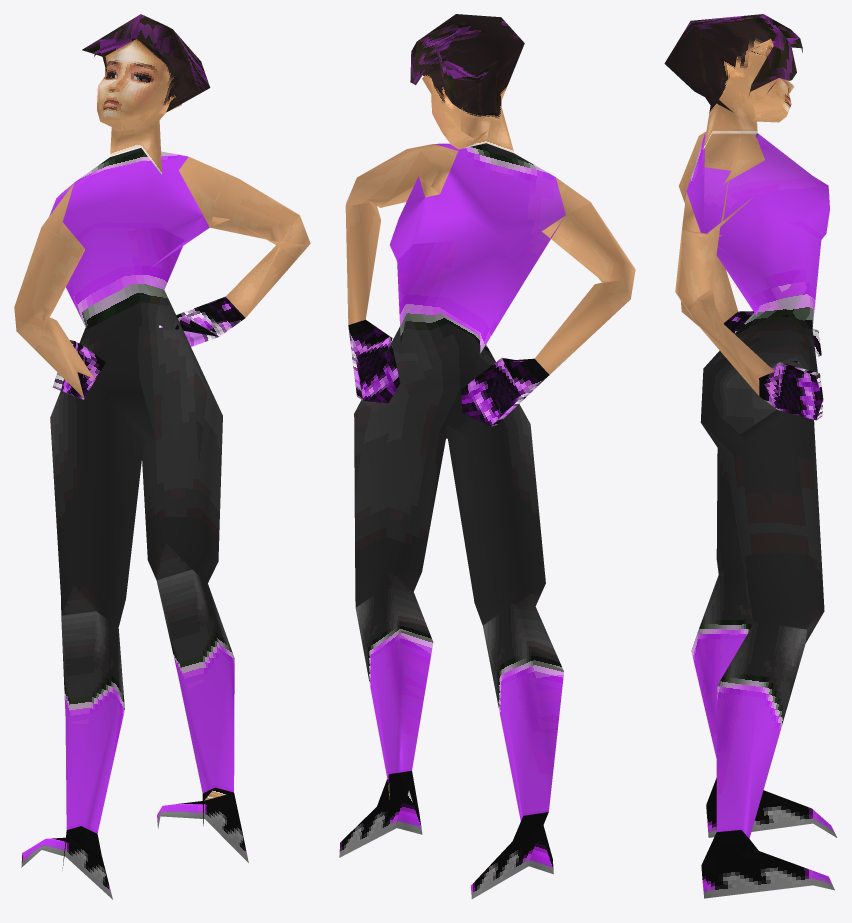
The model's file is ps2_save-icons_splashdown.glb.
3 views of the same model, side by side, from view 1: azimuth 30°, elevation 25°; view 2: azimuth 150°, elevation 25°; view 3: azimuth 270°, elevation 25° (orthographic).
Visible parts, largest first — view 1: NORMAL.ICO; view 2: NORMAL.ICO; view 3: NORMAL.ICO.
Boxes of the visible parts, <box> form: NORMAL.ICO: <box>14,14,310,899</box>; NORMAL.ICO: <box>339,14,635,898</box>; NORMAL.ICO: <box>664,14,837,898</box>.
Bounding box in the file's own units: 1.61 × 4.53 × 0.8279.
1 material, 1 textured.
